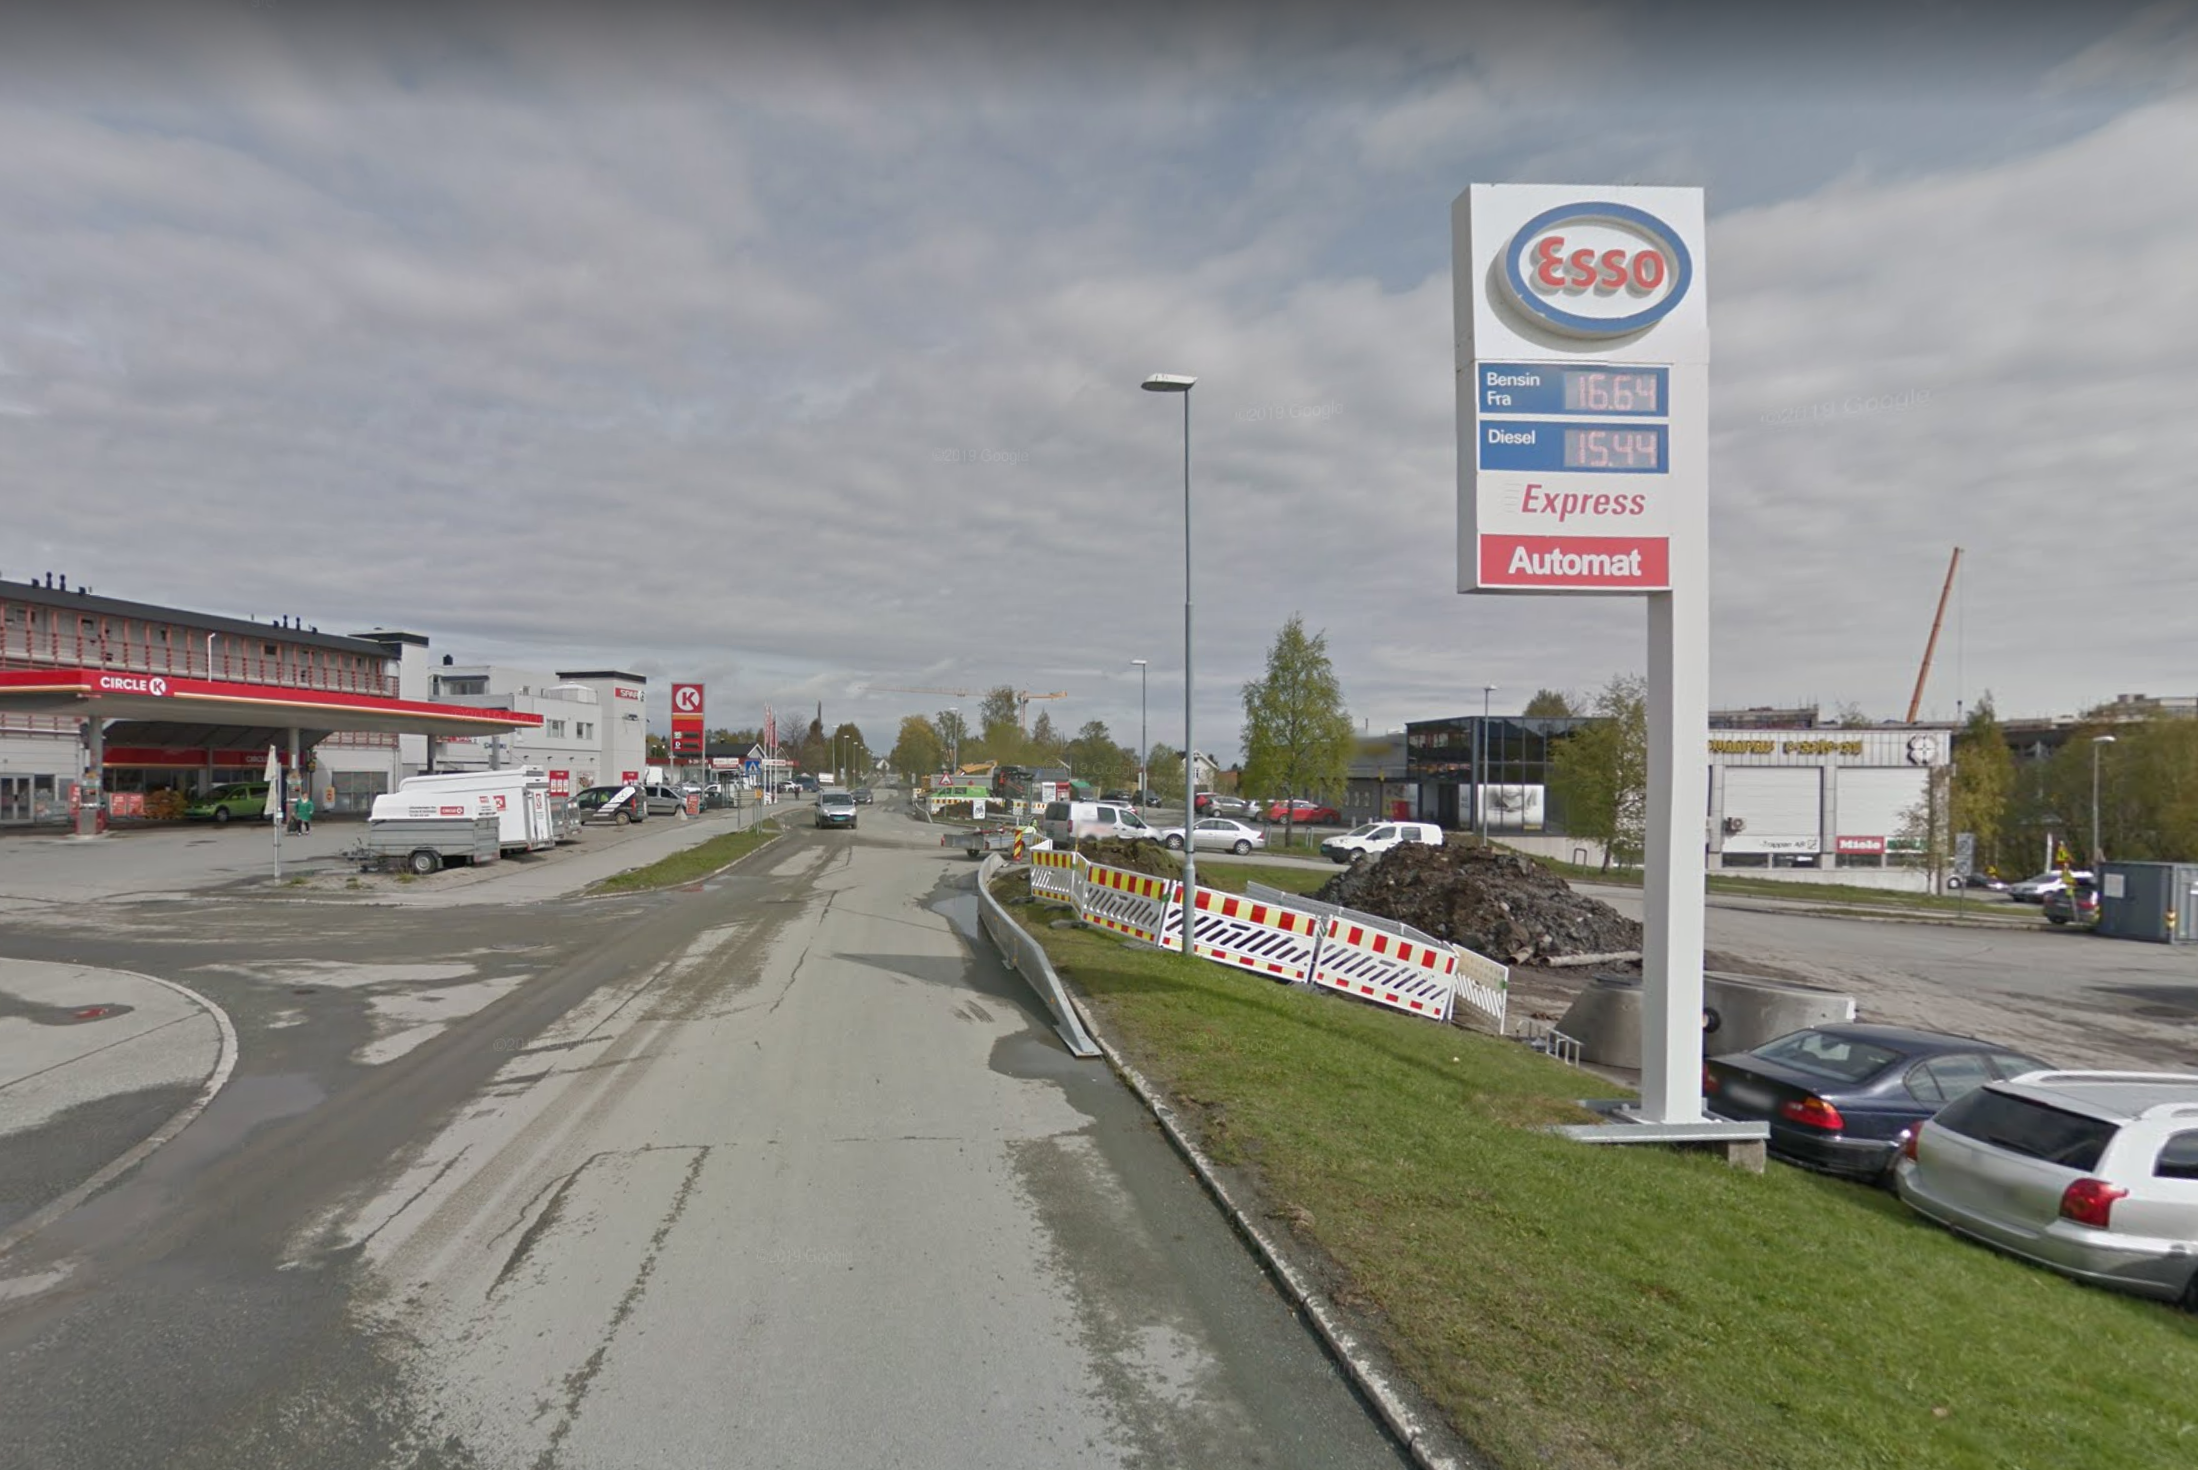fuel: (1452, 179, 1712, 597)
